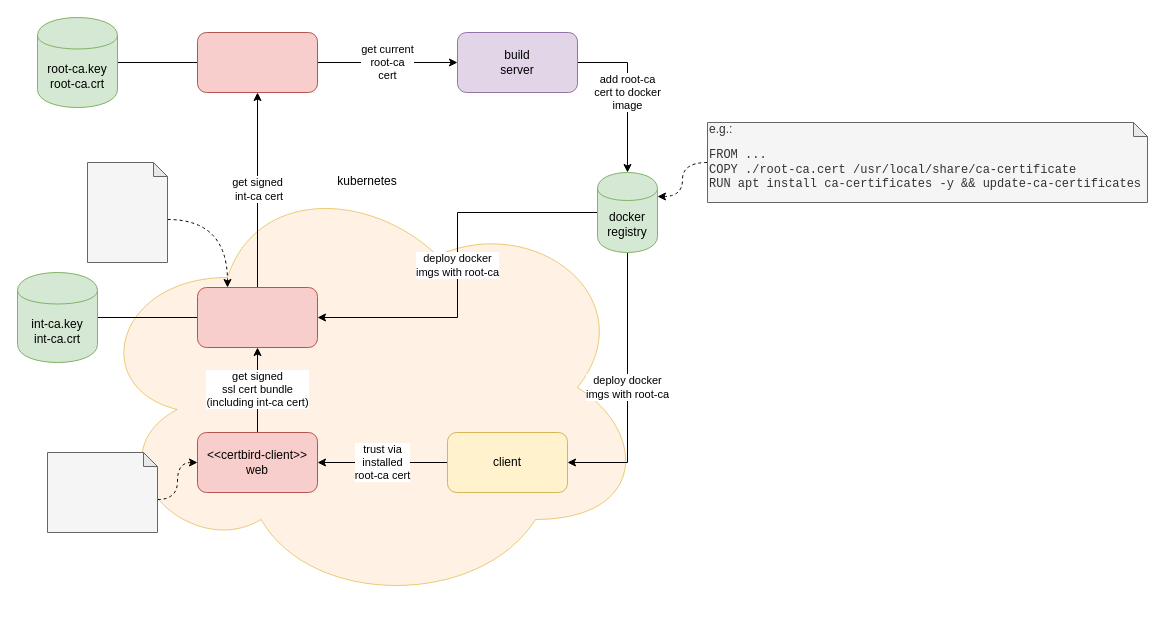
The diagram is 1166 pixels wide and 625 high, and some of its shapes have lost their labels. Each missing label, with the centre of its shape:
"<<certbird-ca>> int ca" belongs at (257,317).
"<<certbird-ca>> root ca (do not provide client certs)" belongs at (257,62).
"rotate ssl certificate often every 30 mins at least" belongs at (102,492).
"scales for many certificate rotations via kubernetes" belongs at (127,212).
